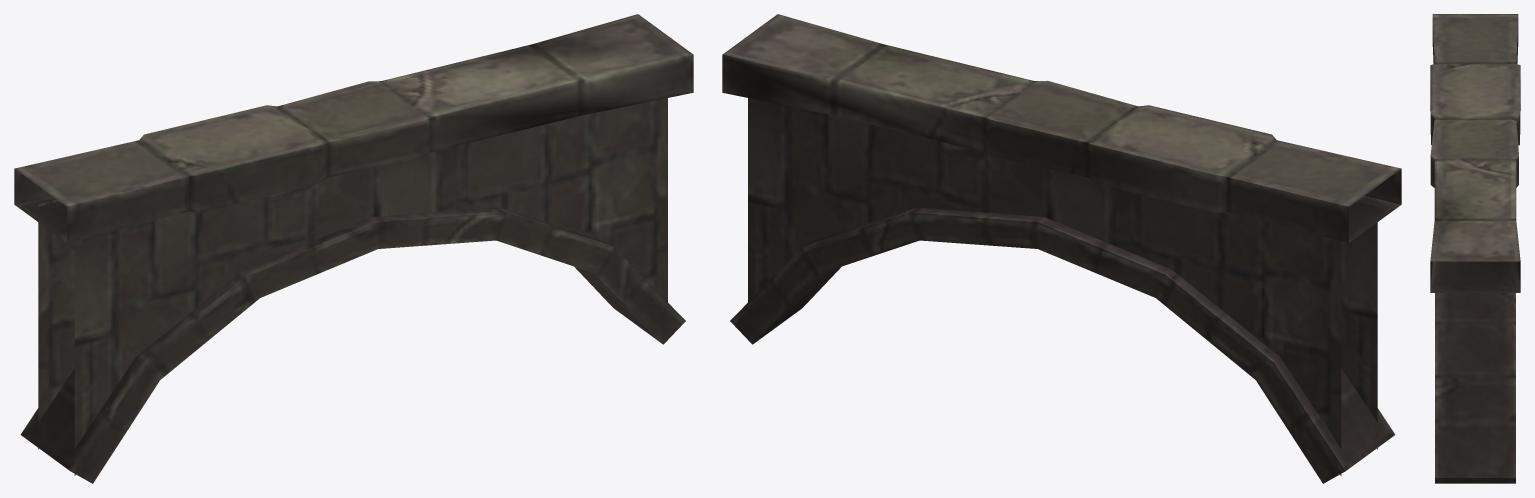
File: jianzhu04.FBX
The picture shows the model from 3 angles, left to right: view 1: azimuth 30°, elevation 25°; view 2: azimuth 150°, elevation 25°; view 3: azimuth 270°, elevation 25°; orthographic projection. The views are drawn at different scales.
Parts seen in each view (by area): view 1: polySurface766; view 2: polySurface766; view 3: polySurface766.
Part boxes in pixels (x1=…): polySurface766: x1=14, y1=14, x2=693, y2=483; polySurface766: x1=722, y1=14, x2=1401, y2=483; polySurface766: x1=1430, y1=14, x2=1520, y2=483.
Bounding box in the file's own units: 37.87 × 16.54 × 5.82.
